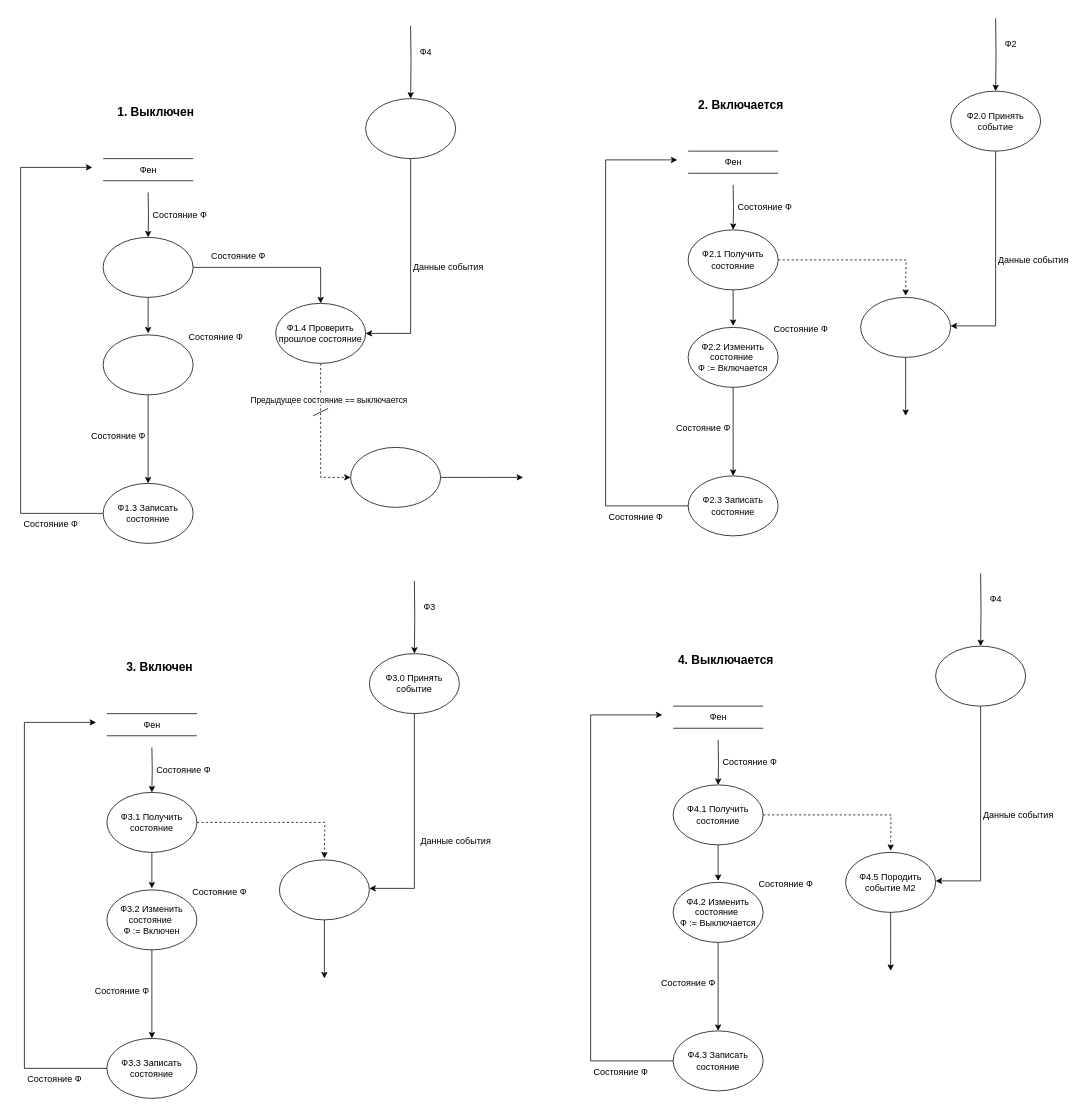
Image size: 1091x1112. Some labels were removed from this diagram. The shapes that lost their labels are listed below. From the top down, each one's centre as x and y in pixels, then its label:
At (410,128): "Ф1.0 Принять событие".
At (147,267): "Ф1.1 Получить состояние".
At (905,327): "Ф2.4 Породить событие М1".
At (147,364): "Ф1.2 Изменить состояние Ф := Выключен".
At (395,477): "Ф1.5 Породить событие П4".
At (980,675): "Ф4.0 Принять событие".
At (324,889): "Ф3.5 Породить событие П1".
